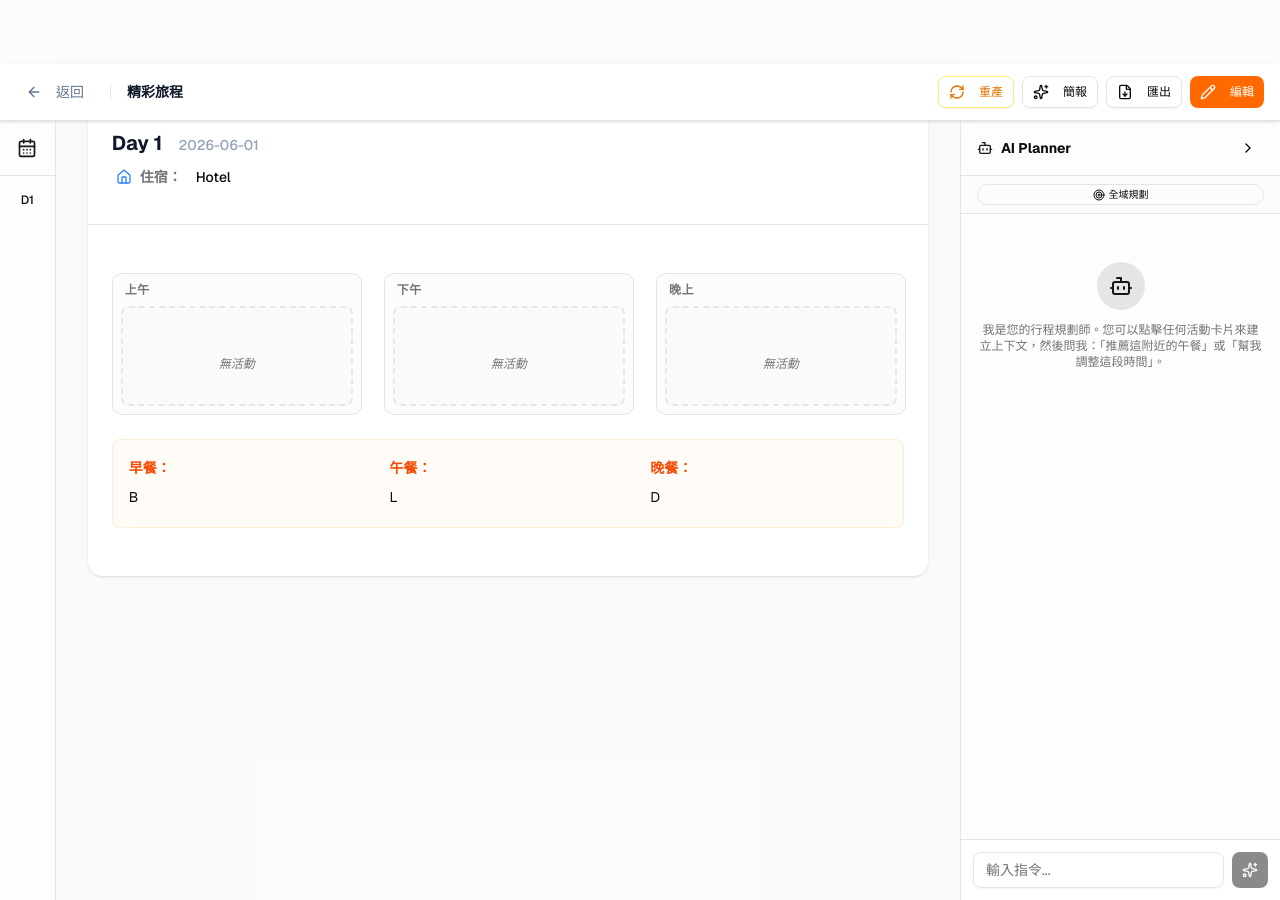
Test: ItineraryEditor shows undo/redo buttons in edit mode
Note: Enter edit mode
Step 1. Click the button "編輯" → click(1227, 92), box [1190,76,1264,108]
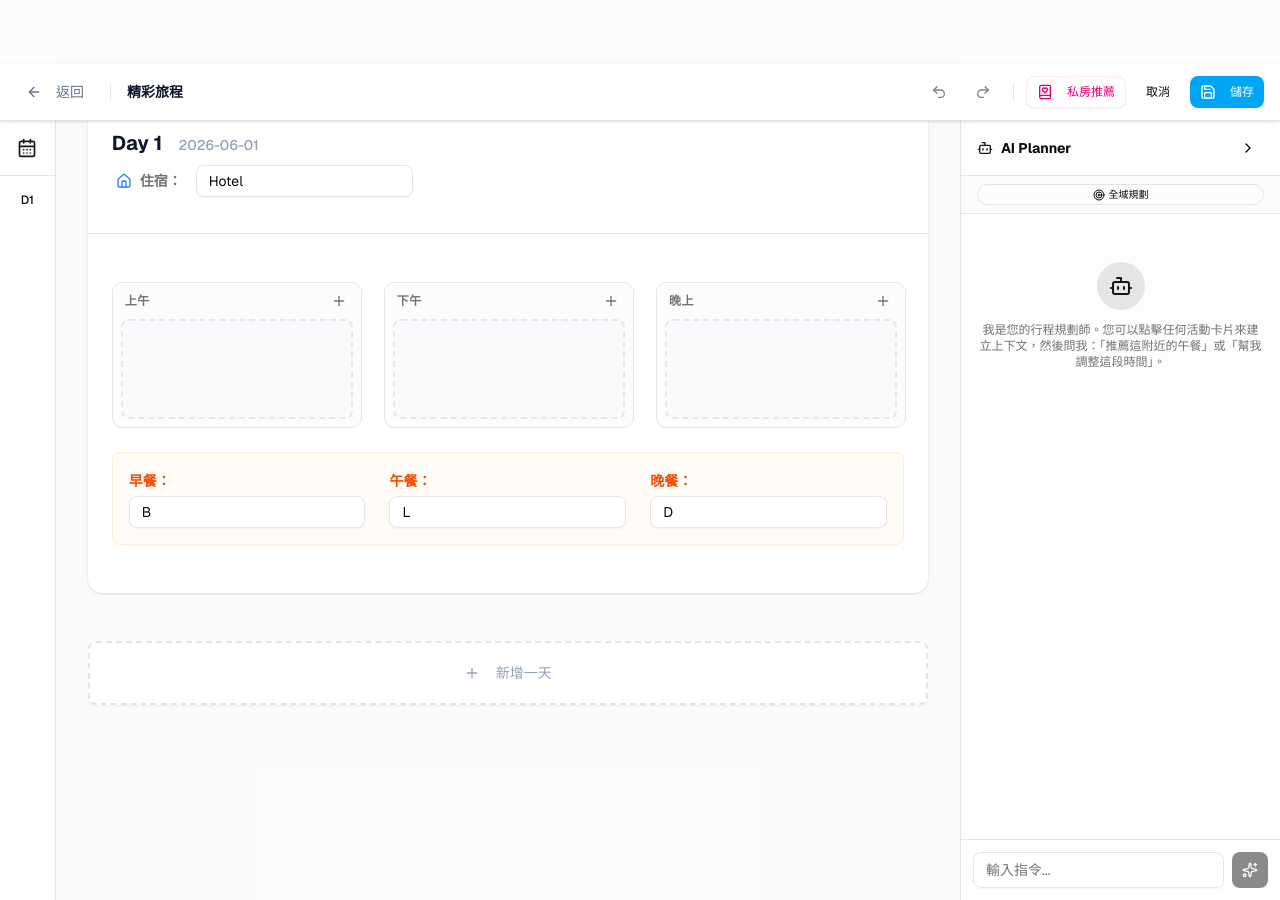
Now the button named "Undo" is shown, box [921,76,957,108]
Now the button named "Redo" is shown, box [965,76,1001,108]
